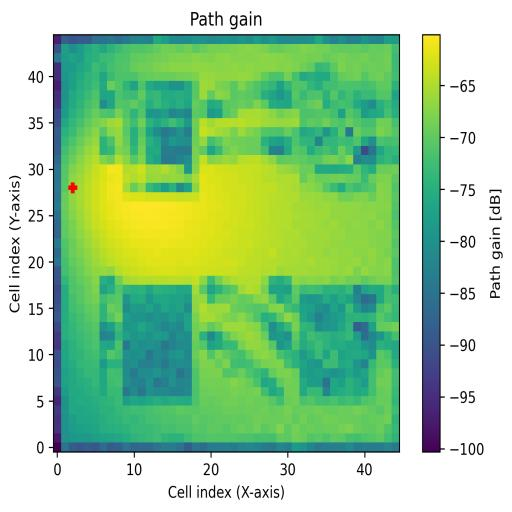Concrete: (301, 80, 376, 202)
Glass: (122, 79, 200, 193)
Metal: (300, 285, 377, 407)
Wood: (124, 286, 194, 405)
